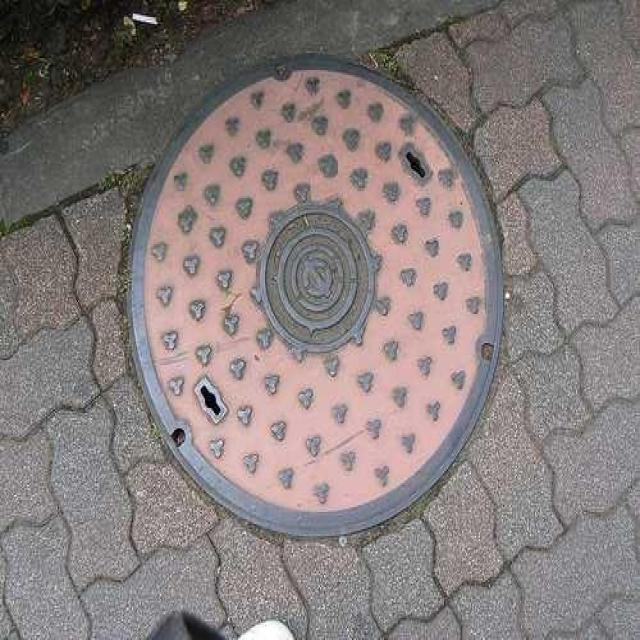manhole: (131, 57, 504, 537)
